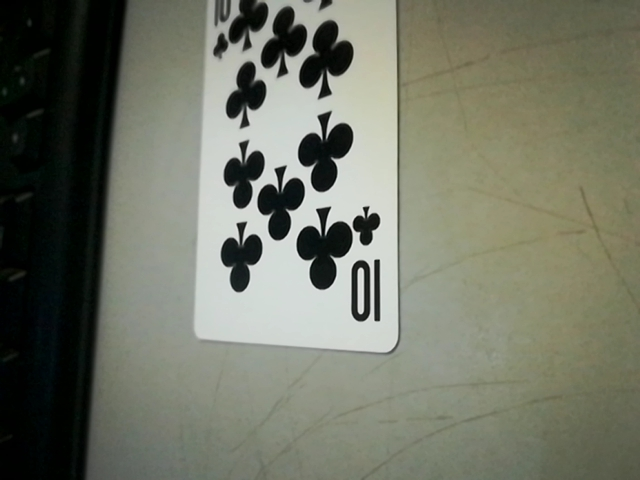mh 10: (347, 203, 394, 338)
